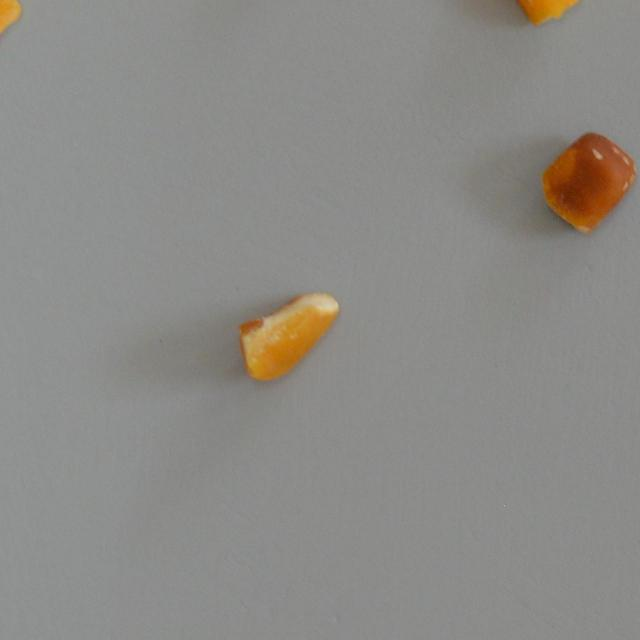dañado: (534, 125, 640, 240), (230, 285, 345, 388), (484, 0, 586, 30), (0, 0, 24, 60)
